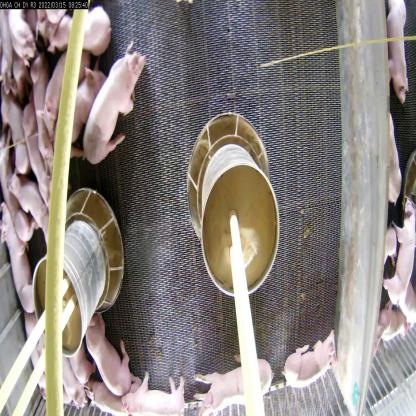Pig: (85, 46, 144, 164), (272, 319, 345, 397), (78, 288, 132, 383), (373, 0, 416, 113), (193, 361, 280, 416), (19, 90, 56, 209), (2, 213, 38, 317), (385, 197, 415, 319), (6, 174, 48, 256), (63, 73, 101, 154), (45, 46, 74, 127), (134, 375, 191, 415), (30, 71, 51, 150)
